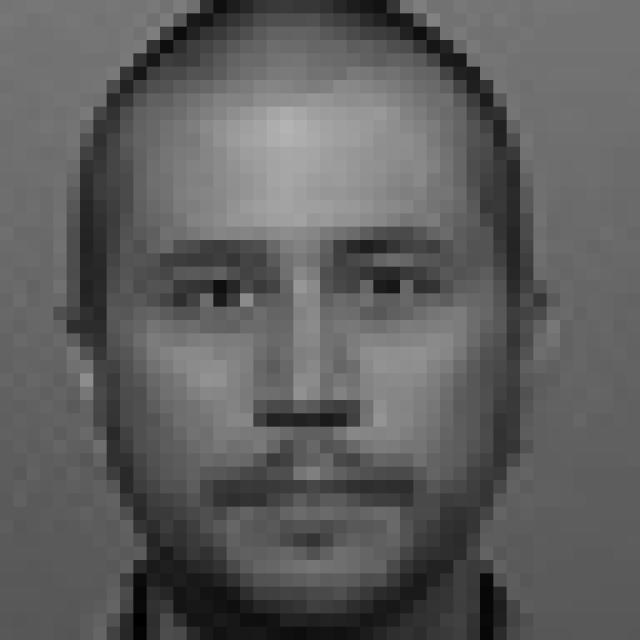neutral: (139, 223, 465, 552)
